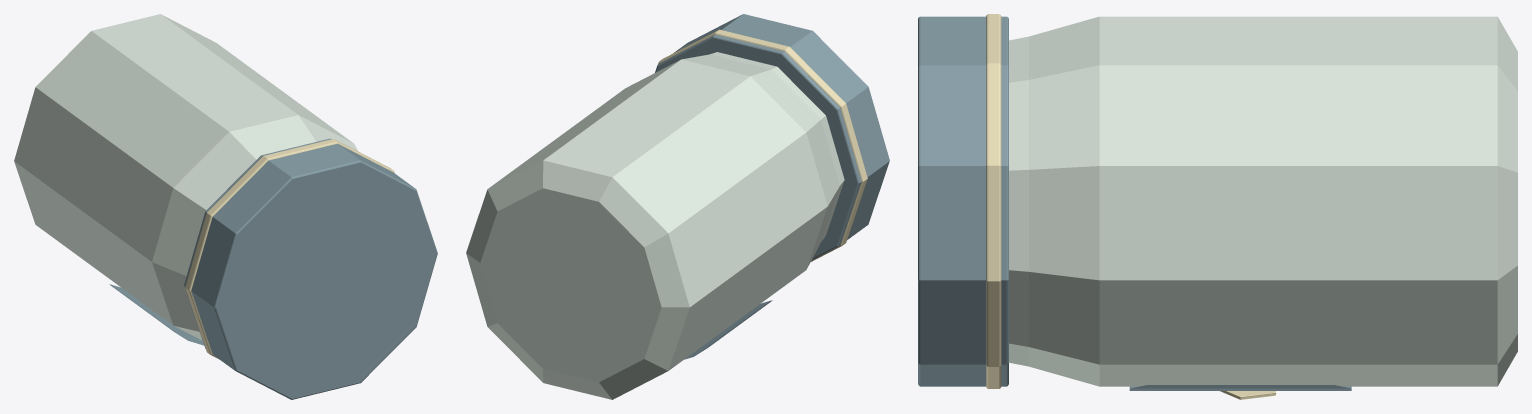
Rendered from mayonnaise.glb.
The picture shows the model from 3 angles, left to right: view 1: azimuth 30°, elevation 25°; view 2: azimuth 150°, elevation 25°; view 3: azimuth 270°, elevation 25°; orthographic projection. The views are drawn at different scales.
Visible parts, largest first — view 1: mayonnaise; view 2: mayonnaise; view 3: mayonnaise.
Part boxes in pixels (x1,y1,x2,y2): mayonnaise: (14,14,437,399); mayonnaise: (466,14,889,399); mayonnaise: (918,14,1517,399).
Bounding box in the file's own units: 0.075 × 0.074 × 0.119.
